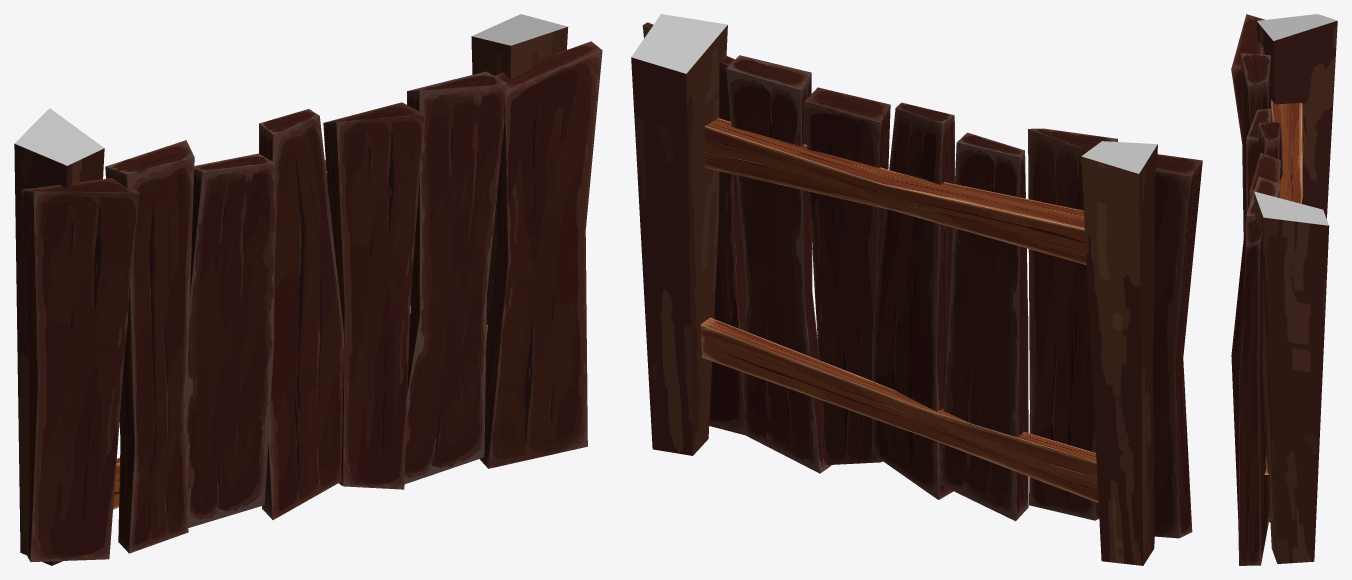
File: SM_PROP_fence_v04_02.fbx
3 renders of one model, left to right at view 1: azimuth 30°, elevation 25°; view 2: azimuth 150°, elevation 25°; view 3: azimuth 270°, elevation 25°, orthographic. The views are drawn at different scales.
Visible parts, largest first — view 1: SM_PROP_fence_v04_02; view 2: SM_PROP_fence_v04_02; view 3: SM_PROP_fence_v04_02.
Part boxes in pixels (x1,y1,x2,y2): SM_PROP_fence_v04_02: (14,14,602,565); SM_PROP_fence_v04_02: (631,14,1202,565); SM_PROP_fence_v04_02: (1231,14,1337,565).
Size of the model in its own units: 563 by 402 by 108.
